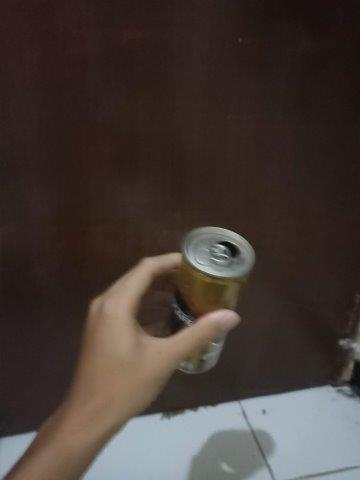kaleng: (168, 226, 255, 373)
